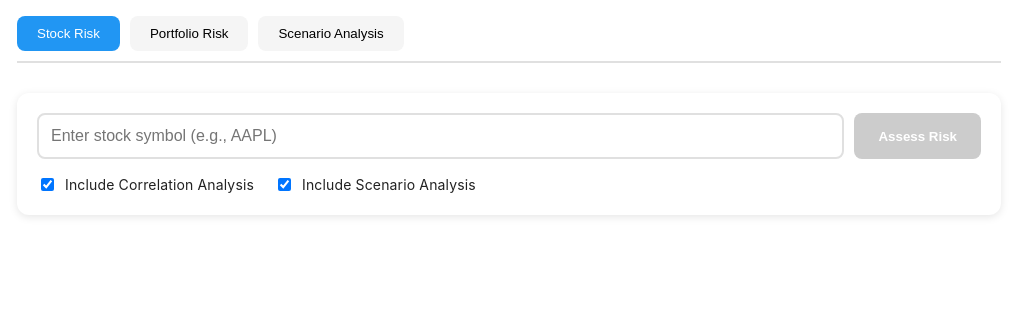
Test: RiskAssessment Component › Stock Risk Assessment Mode › should handle assessment errors
In the field with placeholder "Enter stock symbol (e.g., AAPL)": (441, 136) top-left (37, 113), bottom-right (844, 159), type "INVALID"
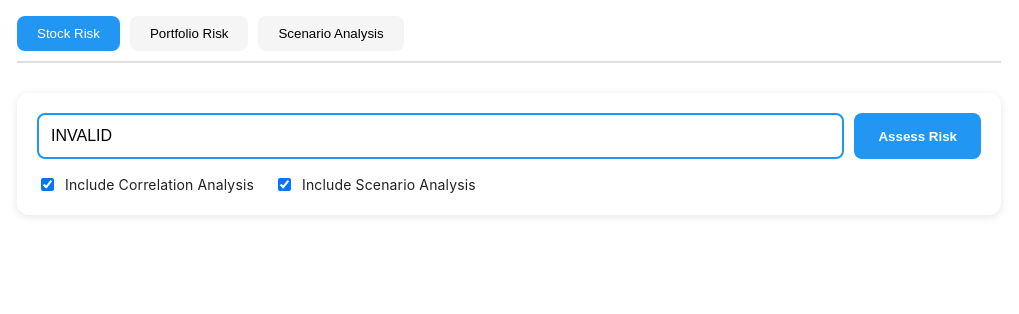
Click the button "Assess Risk": (918, 136) top-left (854, 113), bottom-right (981, 159)
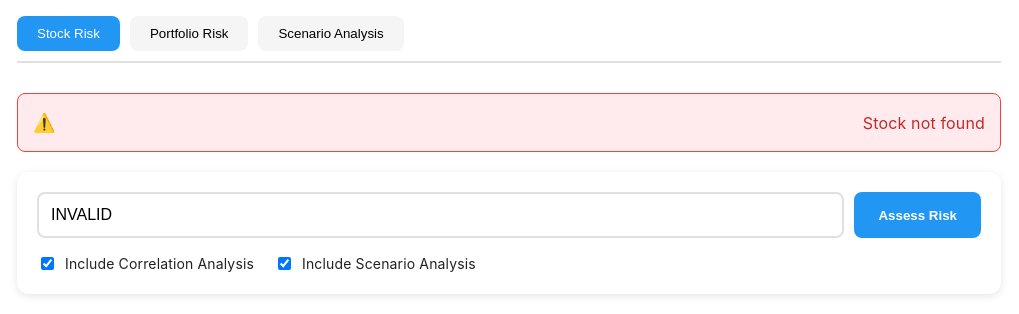
Expected: the text "⚠️ Stock not found" is shown, top-left (17, 93), bottom-right (1001, 152)
